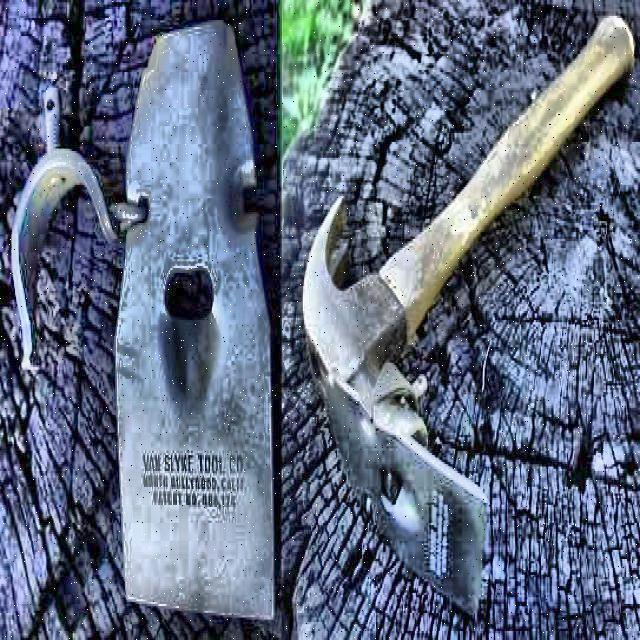hammer: (301, 14, 635, 620)
